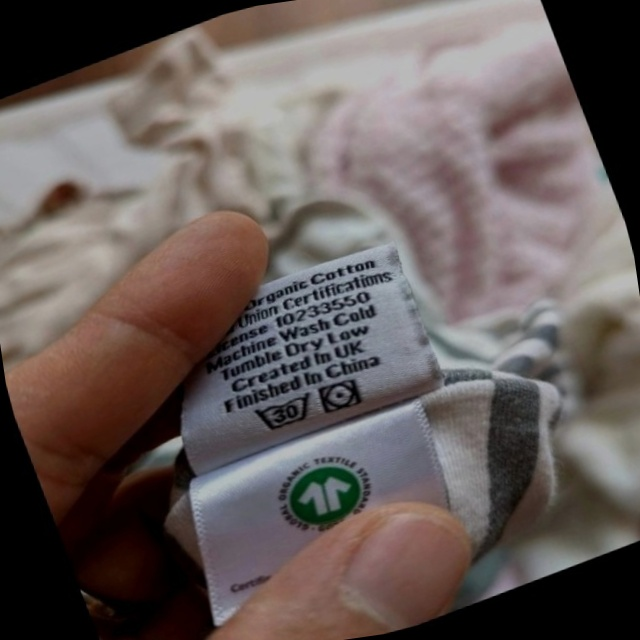30C: (245, 384, 323, 442)
tumble_dry_low: (312, 370, 369, 422)
